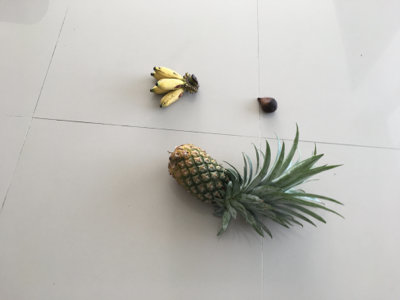banana: (149, 64, 200, 110)
pineapple: (168, 127, 345, 240)
snake fruit: (257, 96, 279, 115)
